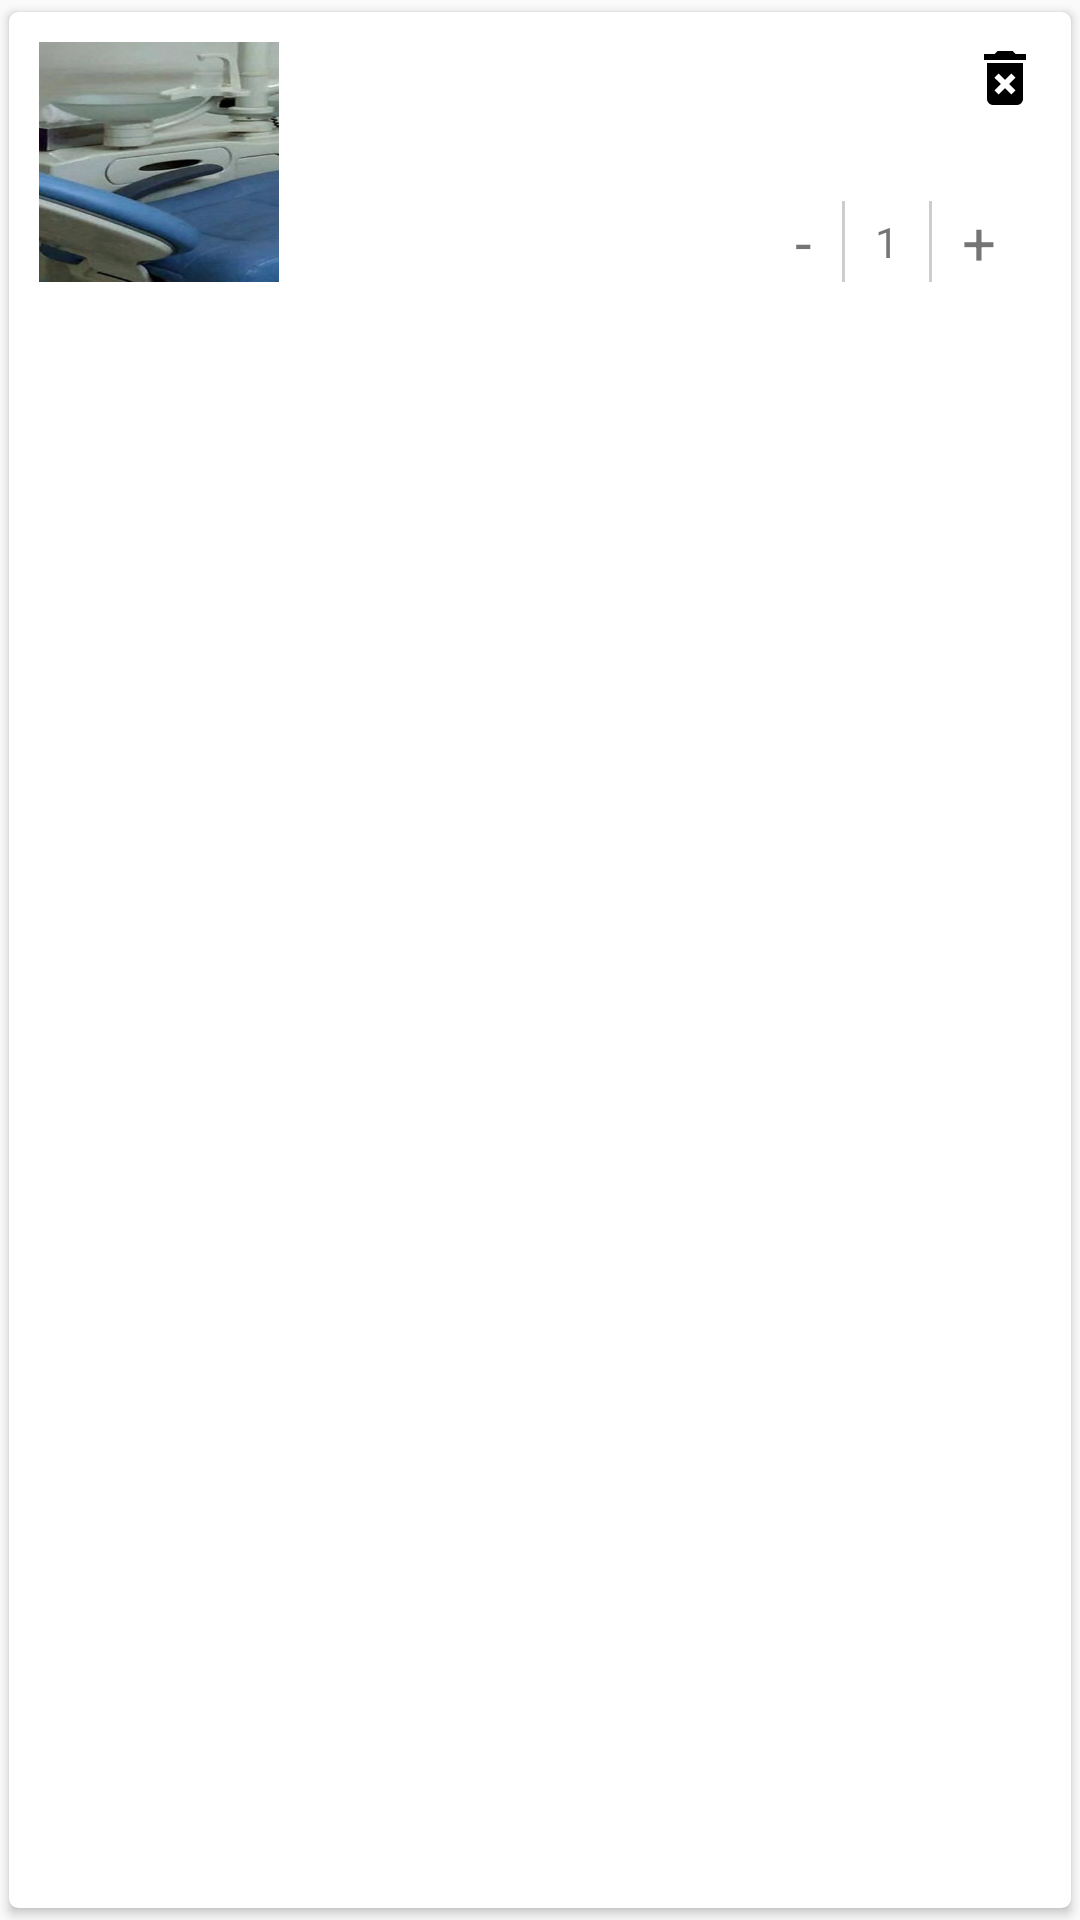

Icons on this 1080px x 1920px Android screen, each with its box as region(x1, y1, x2, y2):
delete: region(984, 51, 1026, 105)
dental: region(39, 42, 279, 282)
